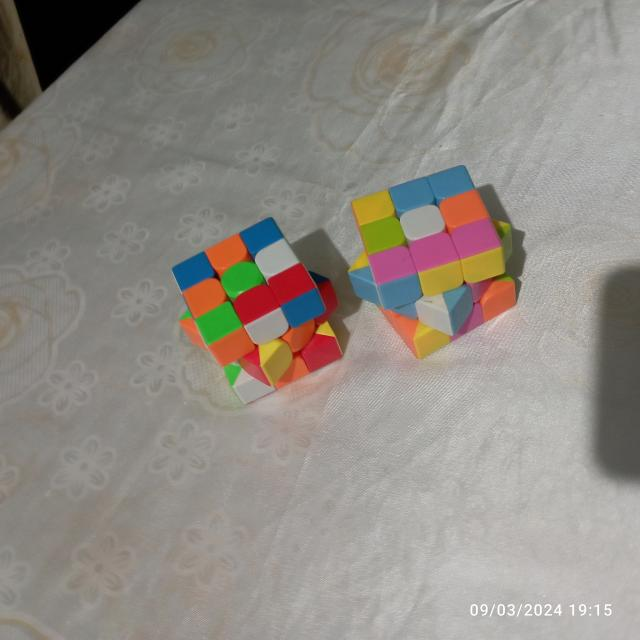Rub: (165, 212, 347, 410), (346, 159, 525, 359)
